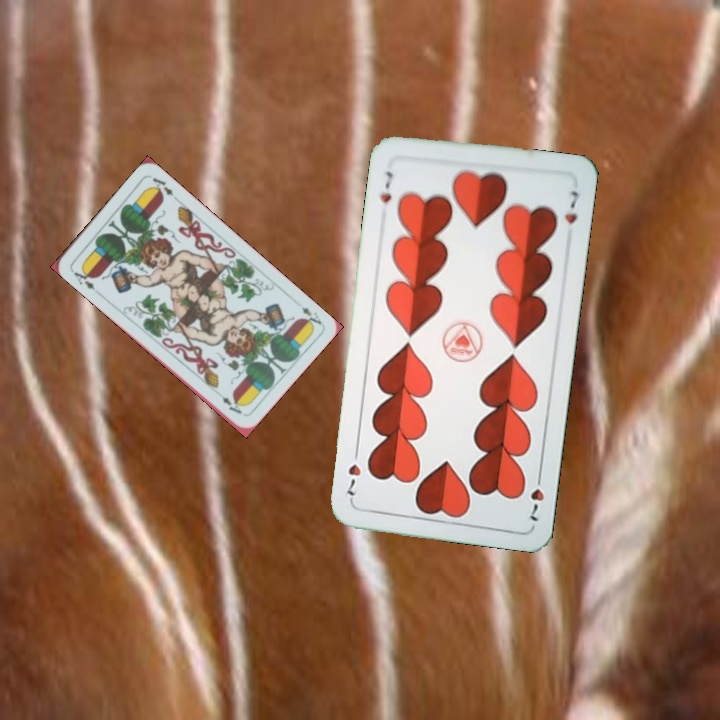EA: (67, 263, 98, 293), (297, 302, 325, 330)
H7: (526, 467, 547, 524), (376, 167, 396, 206)
